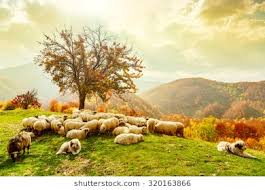sheep: (217, 138, 254, 159), (5, 132, 33, 158), (56, 138, 81, 157), (114, 132, 142, 145), (154, 120, 177, 134), (99, 117, 118, 133), (67, 127, 89, 139), (32, 117, 49, 131)
